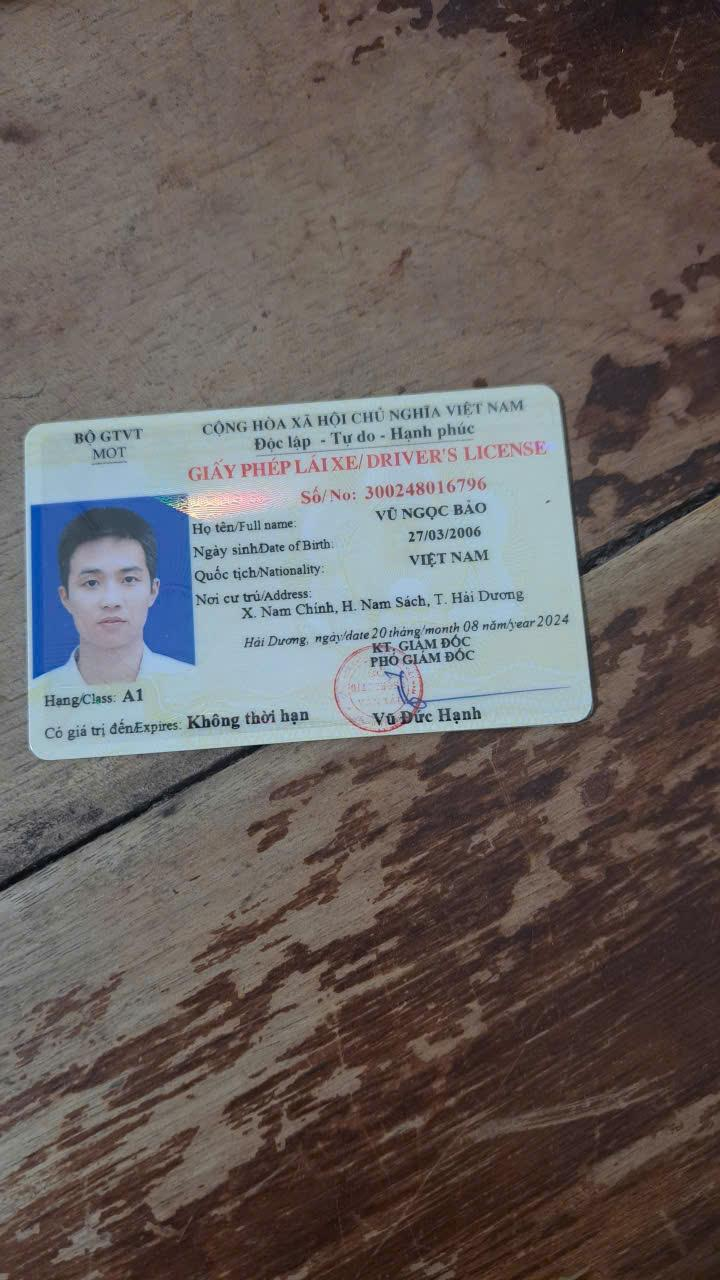gplx: (18, 383, 600, 768)
